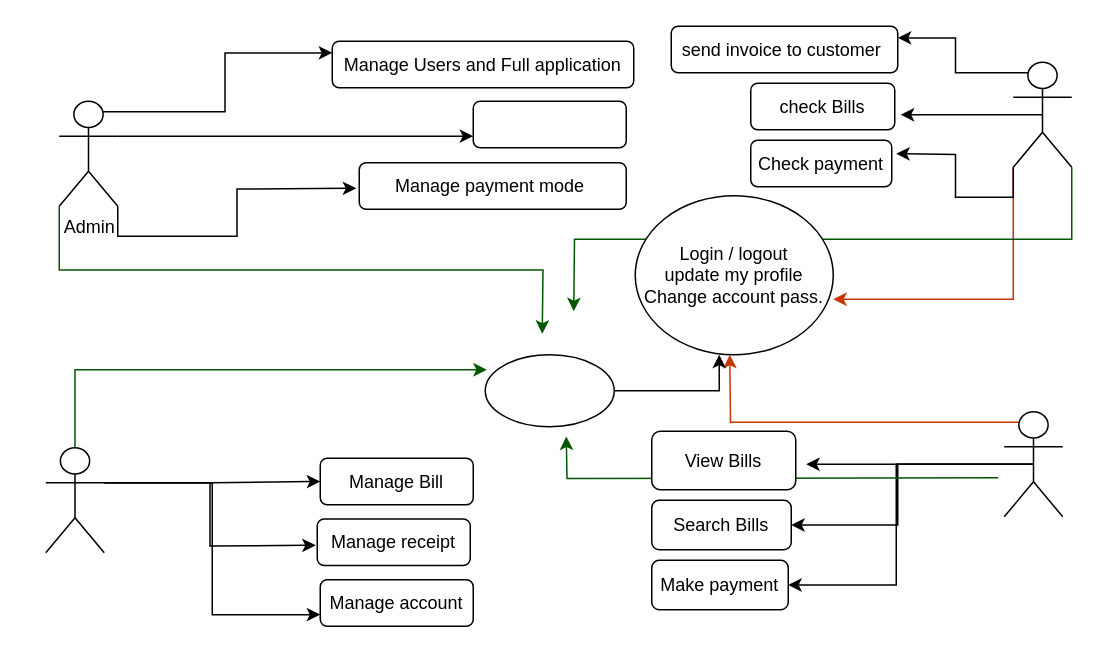
This 1110x654 diagram has some shape labels left out. The box of each missing label's shape, as (x1, y1, x2, y2) in pixels:
Agent: (1012, 61, 1072, 167)
Customer: (1003, 410, 1063, 517)
Manage payment: (472, 100, 626, 148)
Paytm Payment: (484, 353, 614, 427)
system user: (44, 446, 104, 553)
